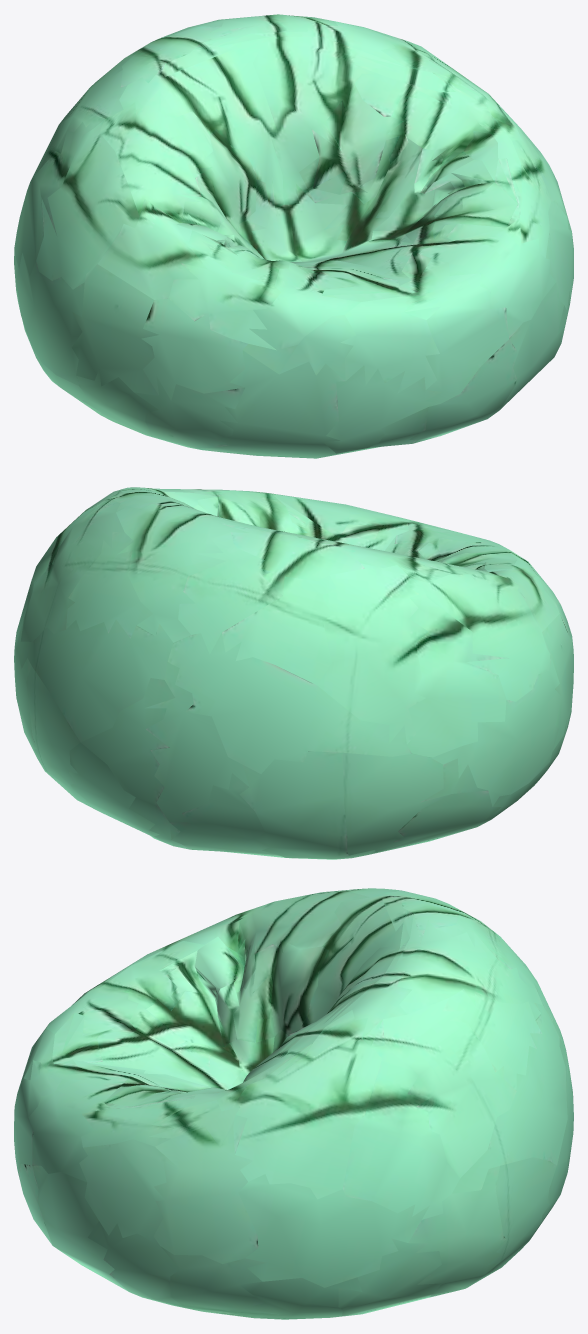
File: beanbag.glb
The picture shows the model from 3 angles, top to bottom: view 1: azimuth 30°, elevation 25°; view 2: azimuth 150°, elevation 25°; view 3: azimuth 270°, elevation 25°; orthographic projection.
Bounding box in the file's own units: 0.8976 × 0.4979 × 0.8773.
1 material, 1 textured.
